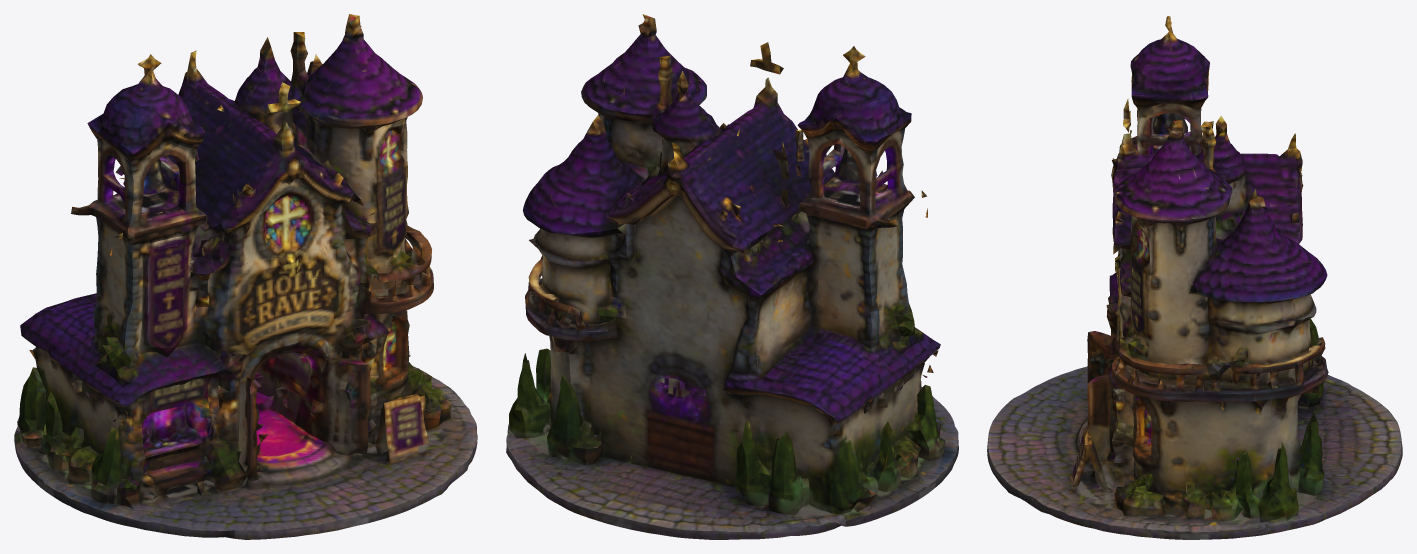
The model's file is holy_rave.glb.
3 renders of one model, left to right at view 1: azimuth 30°, elevation 25°; view 2: azimuth 150°, elevation 25°; view 3: azimuth 270°, elevation 25°, orthographic. The views are drawn at different scales.
Parts seen in each view (by area): view 1: output; view 2: output; view 3: output.
Part boxes in pixels (<box>): output: <box>14,14,477,539</box>; output: <box>506,14,958,539</box>; output: <box>987,16,1402,539</box>.
Bounding box in the file's own units: 1.97 × 2 × 1.94.
Materials: 1 (1 with a texture image).
